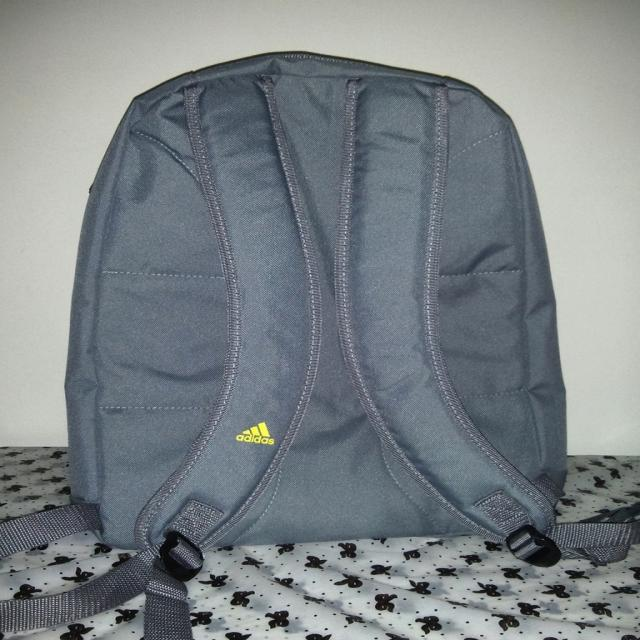backpack: (58, 44, 566, 554)
